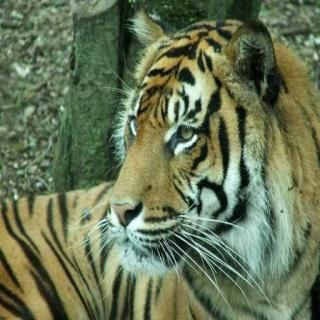Tiger: (4, 12, 319, 320)
